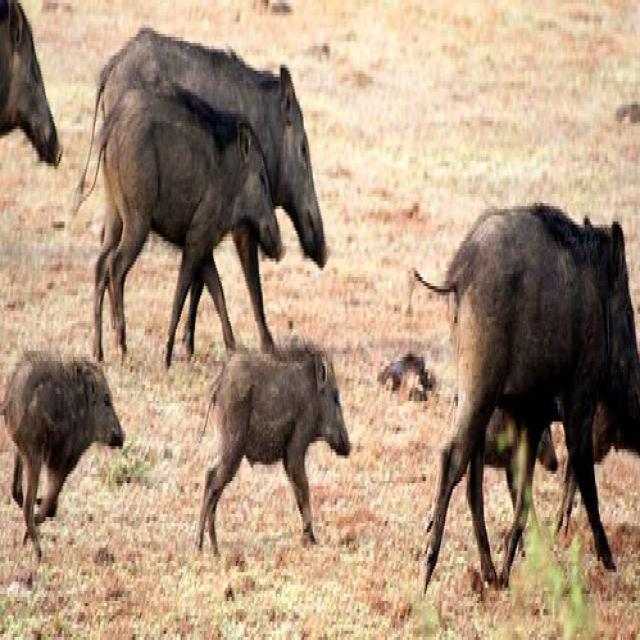boar: (397, 149, 640, 637), (71, 25, 336, 357), (72, 81, 282, 361), (195, 332, 357, 579), (0, 330, 131, 582), (0, 0, 68, 185)
